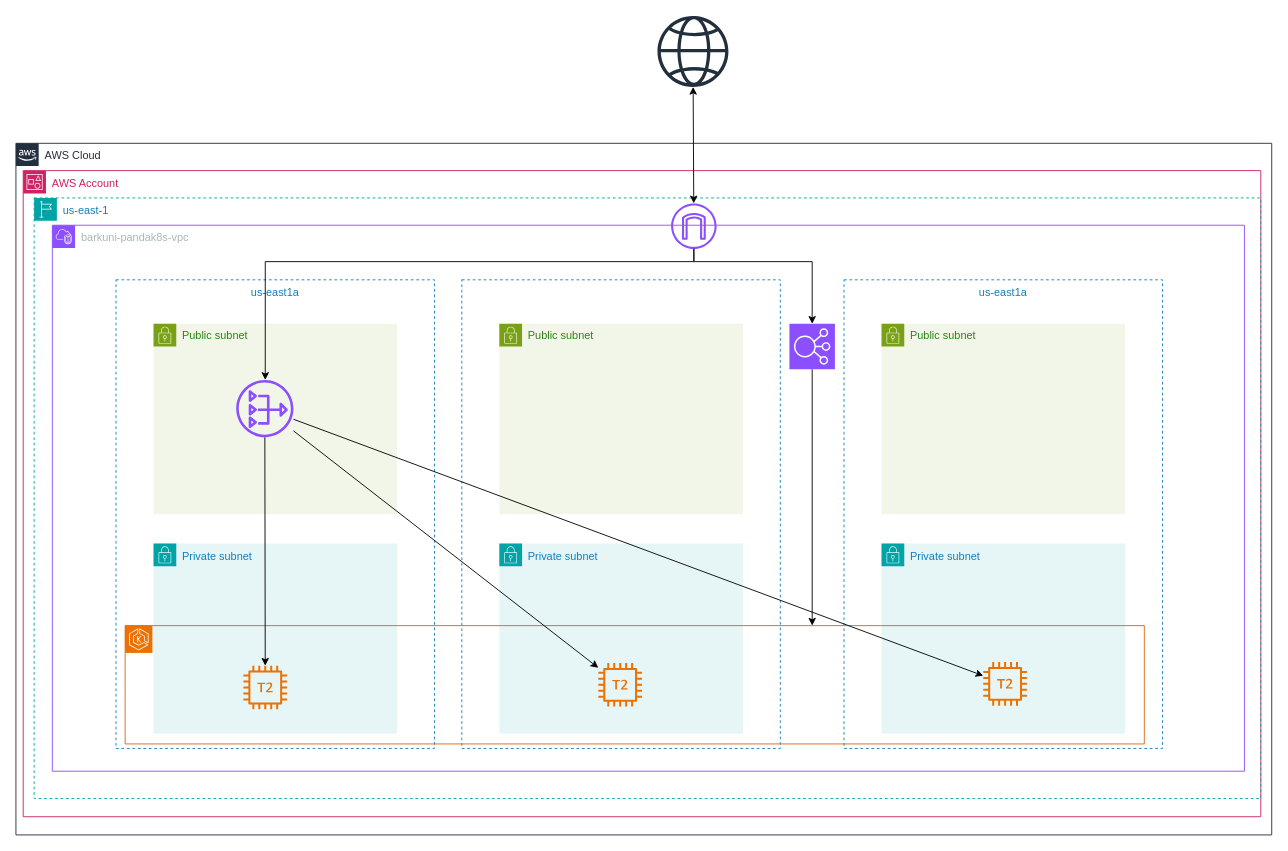
Image size: 1288x851. Some labels were removed from this diagram. The shapes that lost their labels are listed below. From the top down, each one's box as (x1, y1, x2, y2) in pixels, then its label:
(461, 279, 780, 748): us-east1b
(124, 625, 1144, 744): Elastic Kubernetes Service
